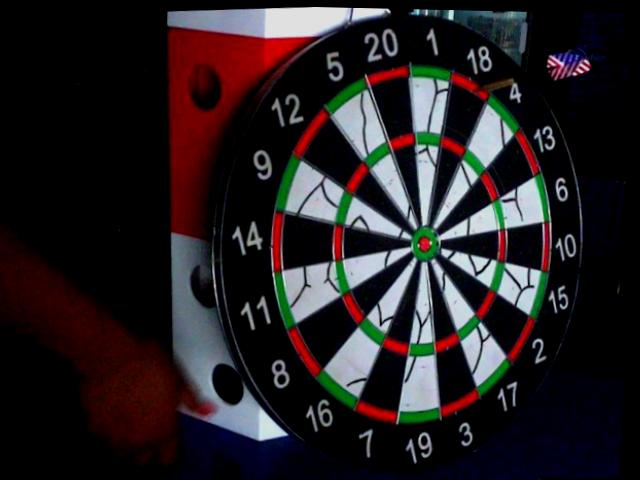double_18: (449, 75, 491, 101)
